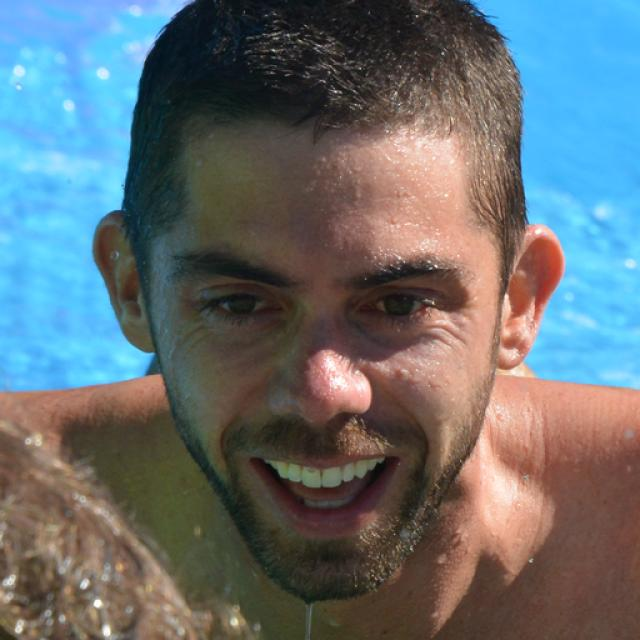Acne: (391, 364, 418, 383)
